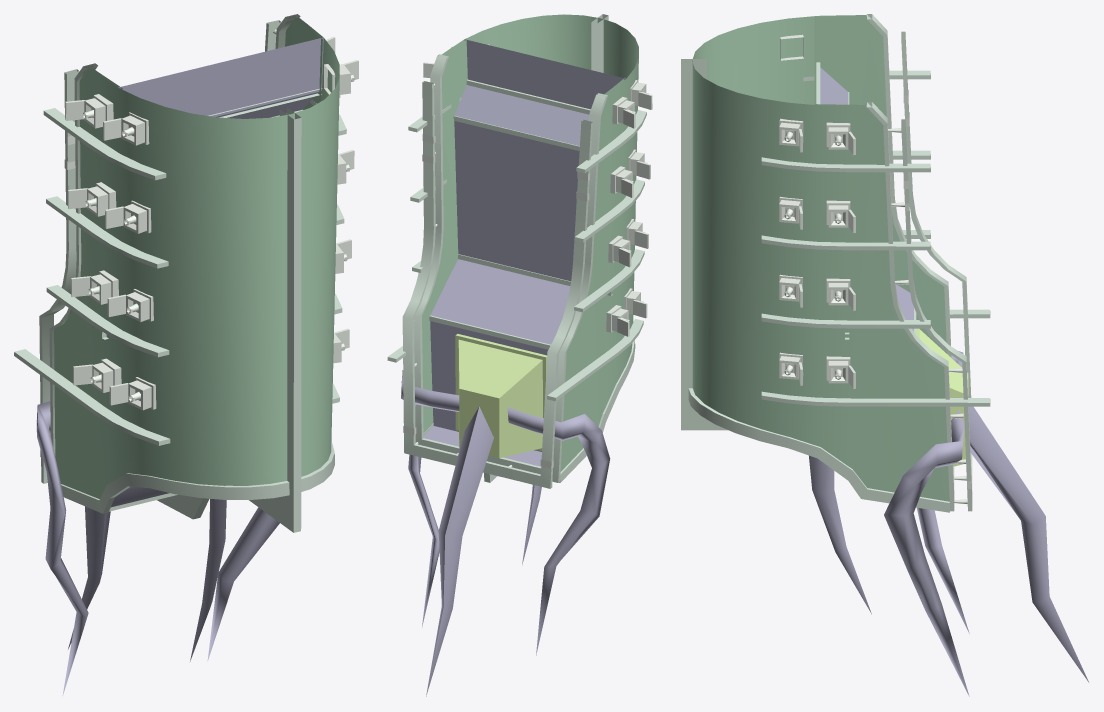
3 views of the same model, side by side, from view 1: azimuth 30°, elevation 25°; view 2: azimuth 150°, elevation 25°; view 3: azimuth 270°, elevation 25° (orthographic). The views are drawn at different scales.
Parts seen in each view (by area): view 1: Object32; view 2: Object32; view 3: Object32.
Part boxes in pixels (x1,y1,x2,y2): Object32: (14,14,358,695); Object32: (387,14,652,696); Object32: (681,14,1088,696).
Bounding box in the file's own units: 14157 × 35180 × 20897.
